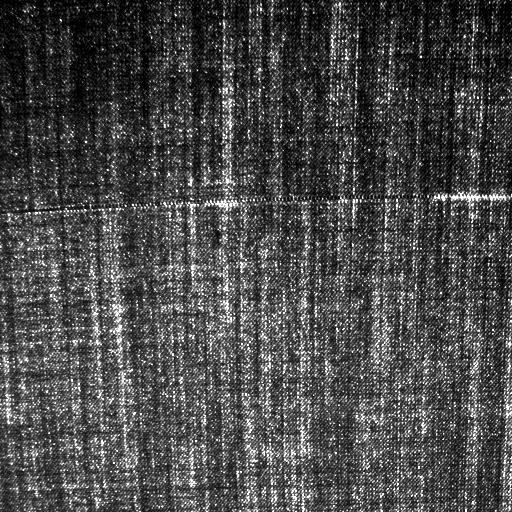fabric_broken_pick: (27, 194, 505, 204)
